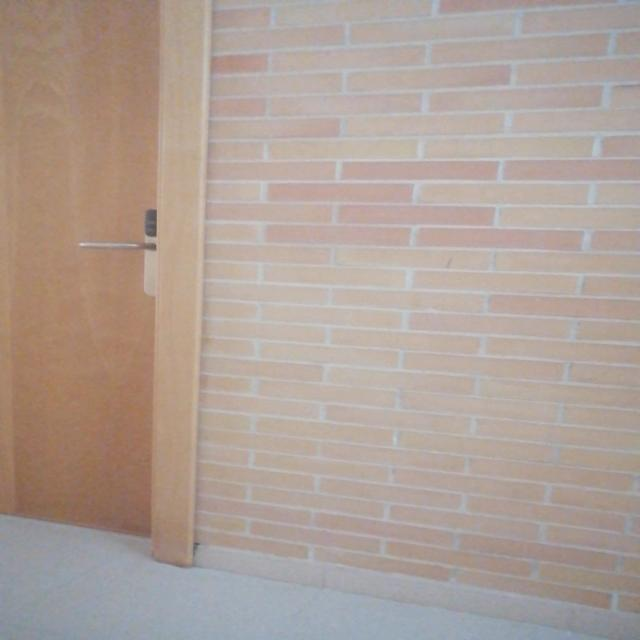door_handle: (74, 239, 155, 254)
